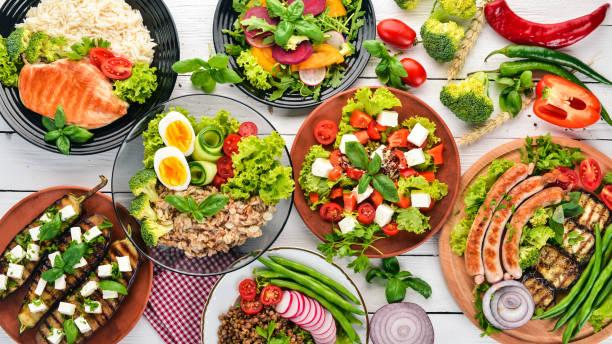Braised Crucian Carp: (434, 134, 608, 343), (113, 92, 289, 275), (289, 85, 456, 254), (2, 2, 176, 155), (1, 187, 151, 343), (211, 1, 370, 111), (199, 248, 370, 344)
